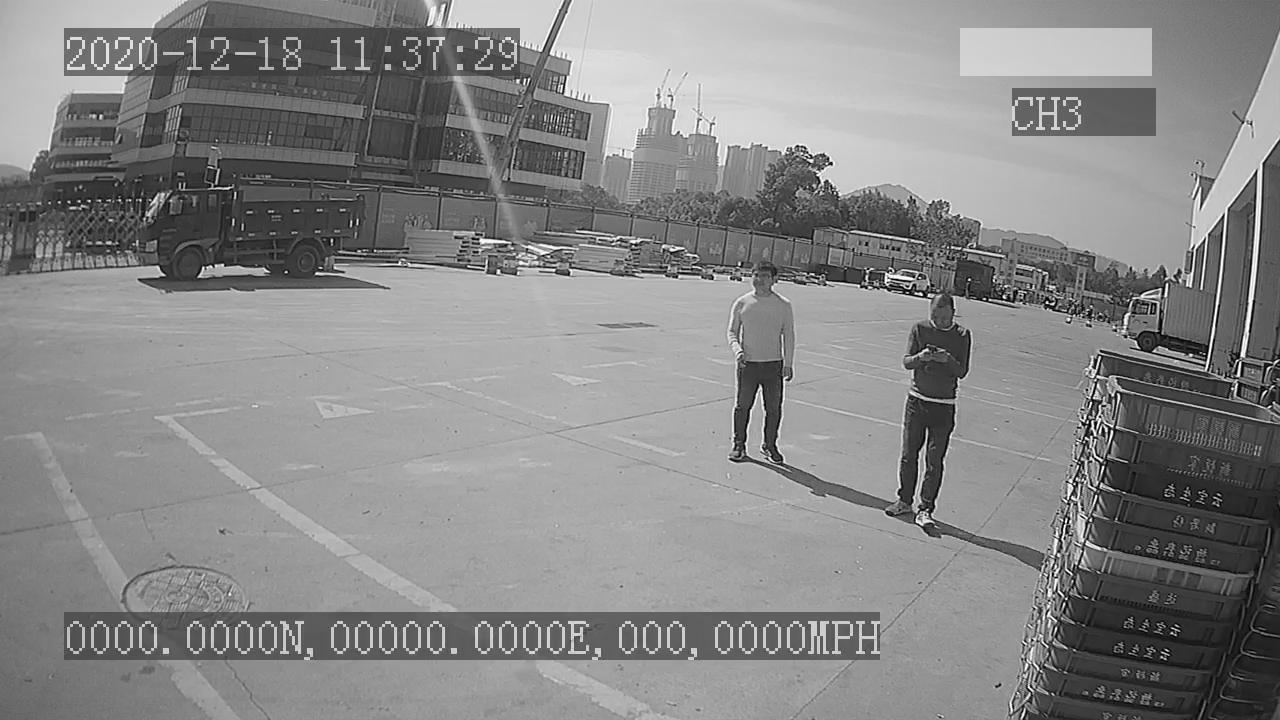person: (885, 290, 976, 534), (728, 257, 796, 466)
